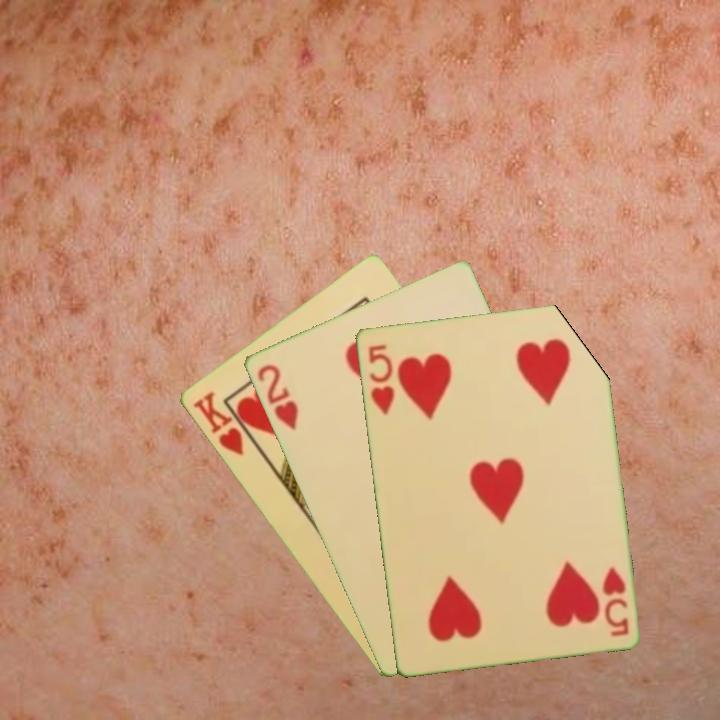2h: (253, 360, 301, 433)
5h: (598, 563, 632, 639), (364, 340, 397, 418)
Kh: (188, 387, 260, 458)
